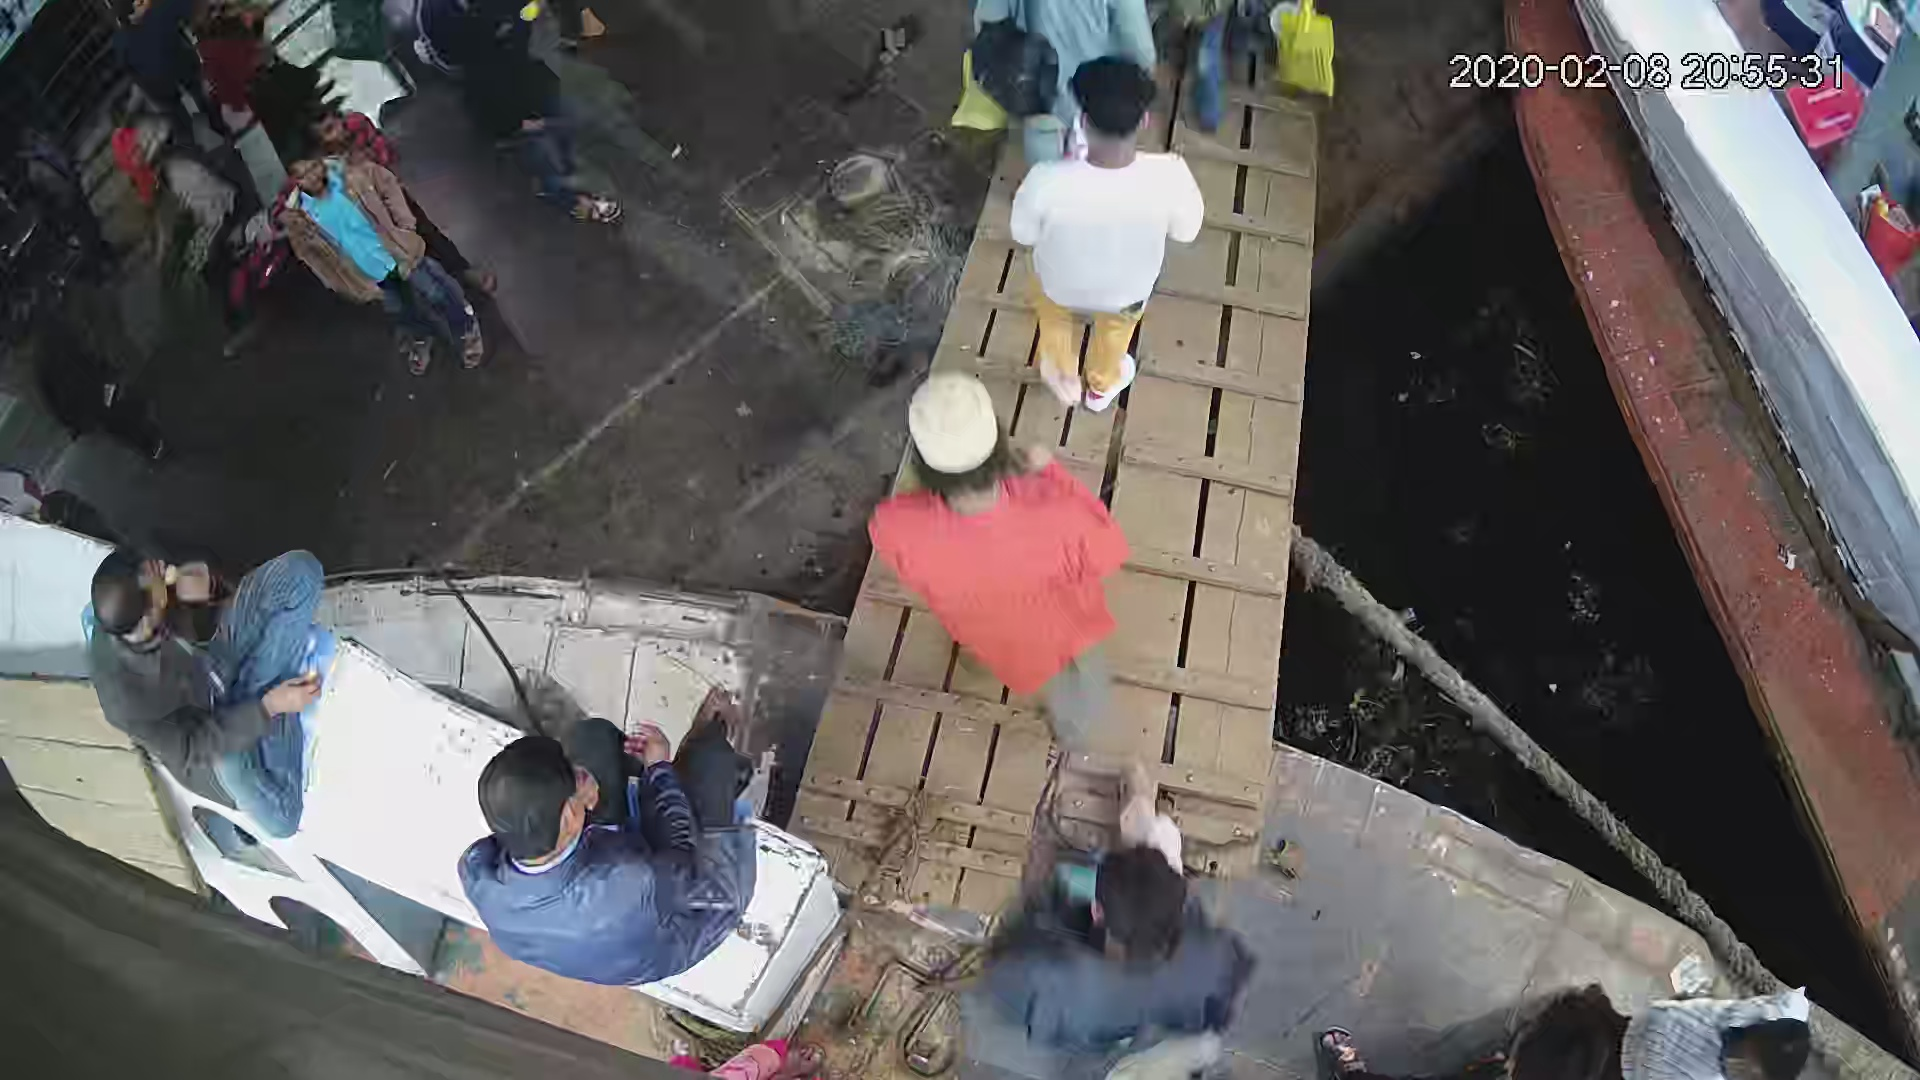person: (863, 370, 1124, 759), (450, 697, 762, 991), (81, 533, 330, 847), (994, 63, 1212, 413), (978, 791, 1270, 1048), (272, 140, 493, 382), (107, 123, 284, 353), (451, 26, 626, 227)
